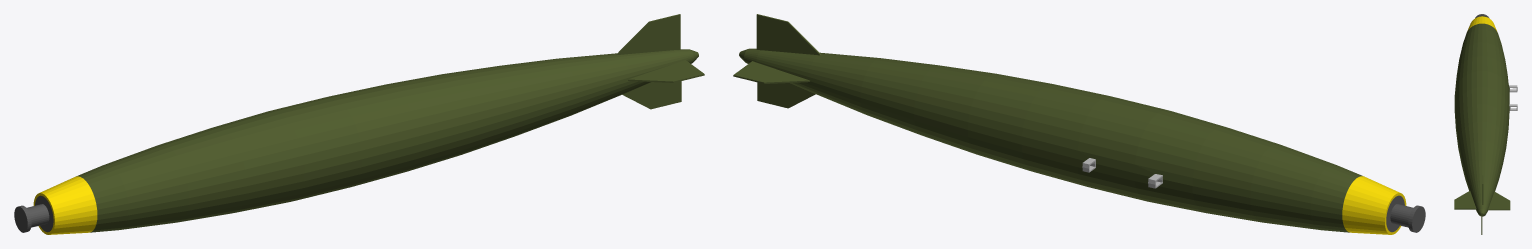
Rendered from MK82GLTF2.glb.
The picture shows the model from 3 angles, left to right: view 1: azimuth 30°, elevation 25°; view 2: azimuth 150°, elevation 25°; view 3: azimuth 270°, elevation 25°; orthographic projection. The views are drawn at different scales.
Visible parts, largest first — view 1: MK82 Body, Fin Left, Fin Right, Fin Down; view 2: MK82 Body, Fin Left, Fin Right, Fin Up; view 3: MK82 Body, Fin Up, Fin Down, Fin Left.
Part boxes in pixels (left/top/right/bottom): MK82 Body: left=14, top=49, right=698, bottom=234; Fin Left: left=616, top=14, right=680, bottom=54; Fin Right: left=622, top=81, right=681, bottom=109; Fin Down: left=628, top=60, right=704, bottom=82; MK82 Body: left=739, top=48, right=1425, bottom=234; Fin Left: left=756, top=14, right=821, bottom=55; Fin Right: left=757, top=82, right=815, bottom=108; Fin Up: left=733, top=61, right=809, bottom=83; MK82 Body: left=1454, top=14, right=1517, bottom=216; Fin Up: left=1488, top=191, right=1510, bottom=210; Fin Down: left=1454, top=191, right=1476, bottom=209; Fin Left: left=1482, top=175, right=1483, bottom=204.
Size of the model in its own units: 2.4 by 0.2938 by 0.3331.
